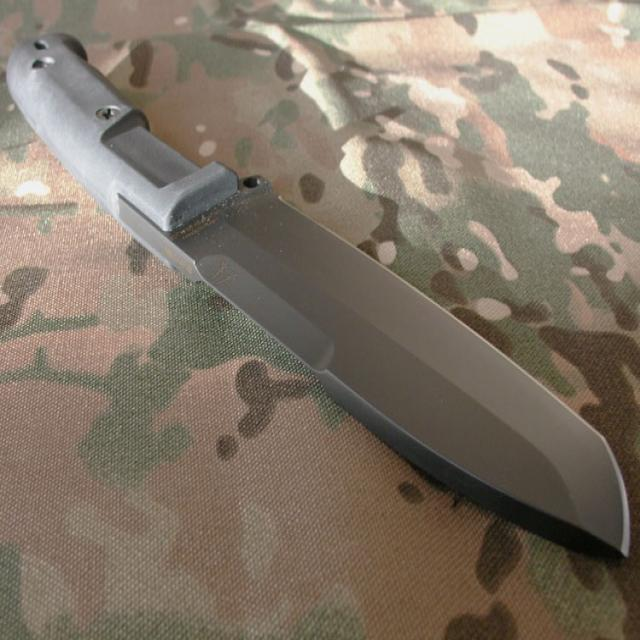knife: (7, 28, 634, 568)
